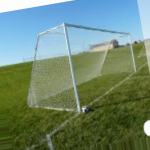goals: (24, 22, 136, 112)
